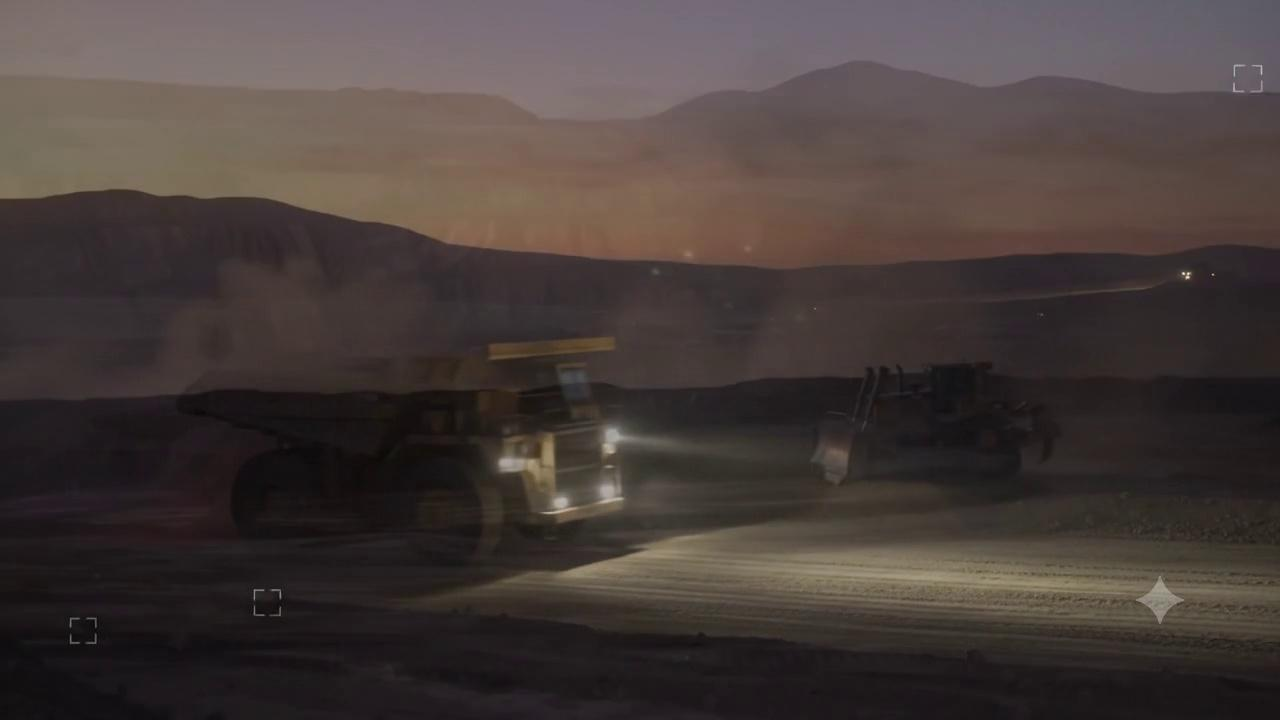CAEX: (172, 336, 628, 562), (809, 360, 1042, 488)
